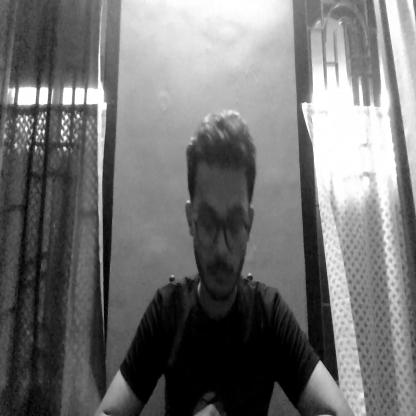Normal: (187, 122, 254, 298)
